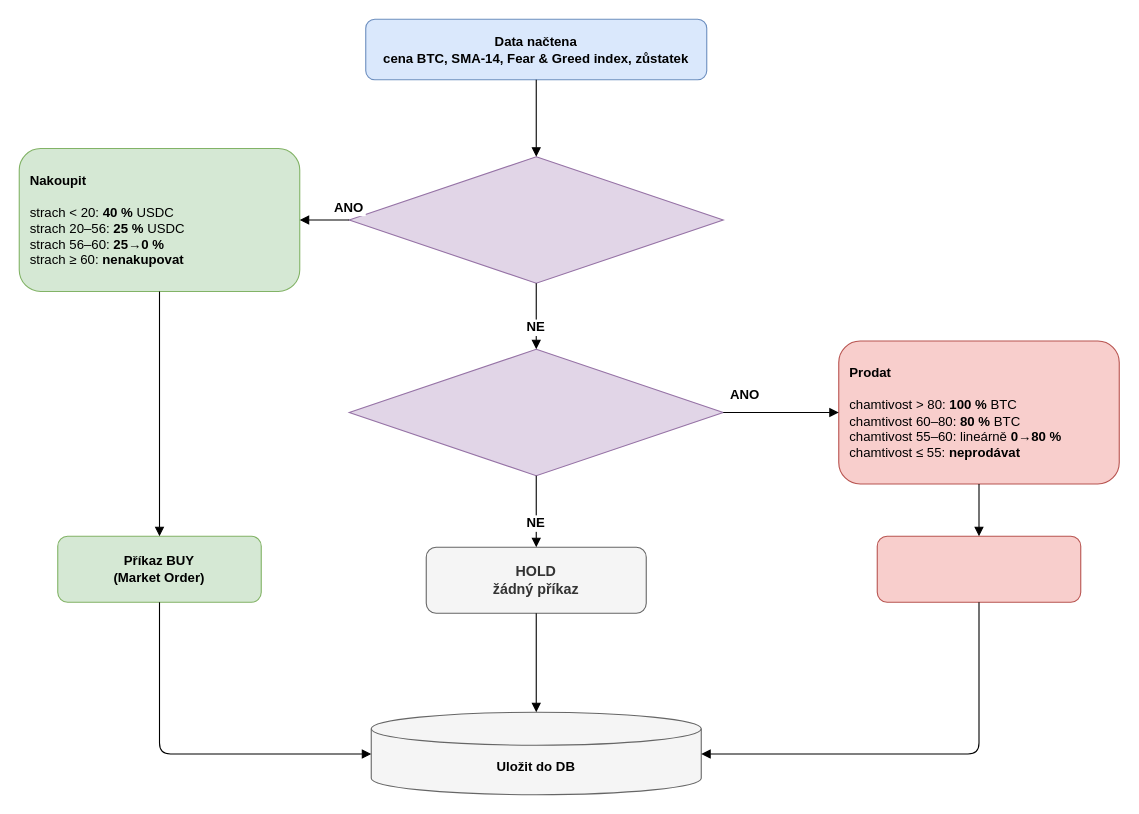
The diagram is 1139 pixels wide and 814 high, and some of its shapes have lost their labels. Each missing label, with the box of its shape:
Cena < SMA AND chamtivost > 55?: (348, 348, 723, 476)
Cena > SMA AND strach < 60?: (348, 156, 723, 283)
Příkaz SELL (Market Order): (876, 535, 1081, 602)
